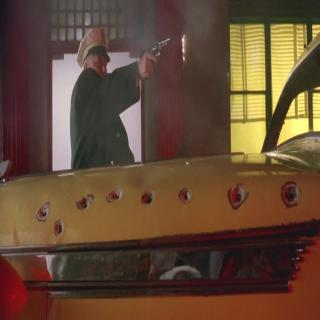gun: (146, 33, 178, 64)
